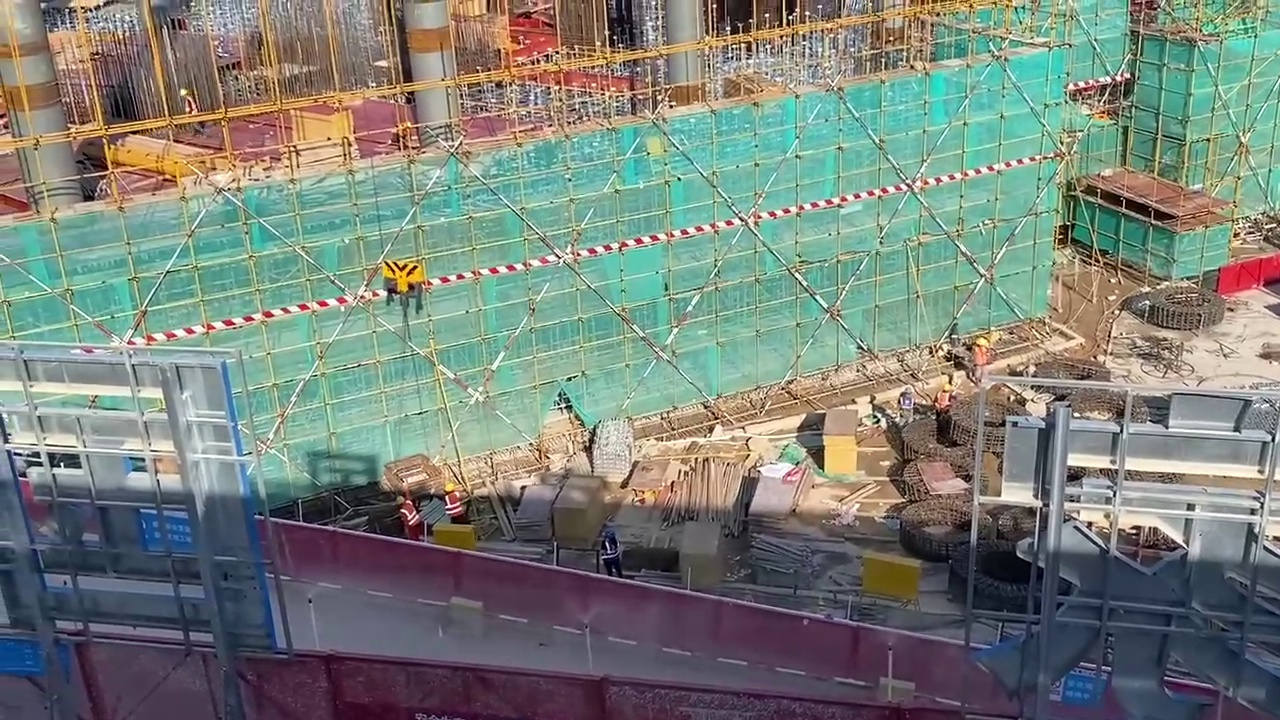board: (821, 407, 857, 471)
fence: (5, 636, 851, 720)
hook: (381, 260, 425, 295)
person: (394, 491, 419, 546), (602, 528, 623, 580), (439, 482, 464, 522), (971, 332, 990, 378), (935, 380, 951, 411)
vest: (444, 495, 466, 516), (399, 503, 416, 529), (605, 540, 617, 561)
wood: (663, 460, 743, 529)
